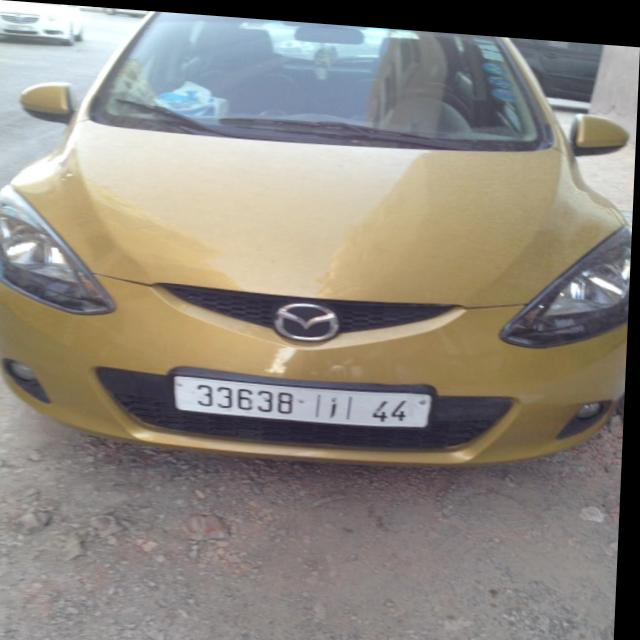License-Plate: (177, 372, 436, 421)
